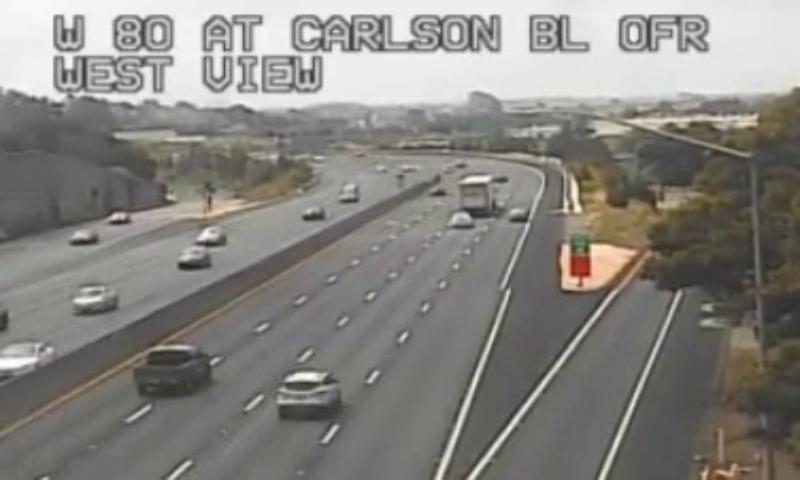car: (131, 342, 208, 387), (274, 369, 340, 411)
